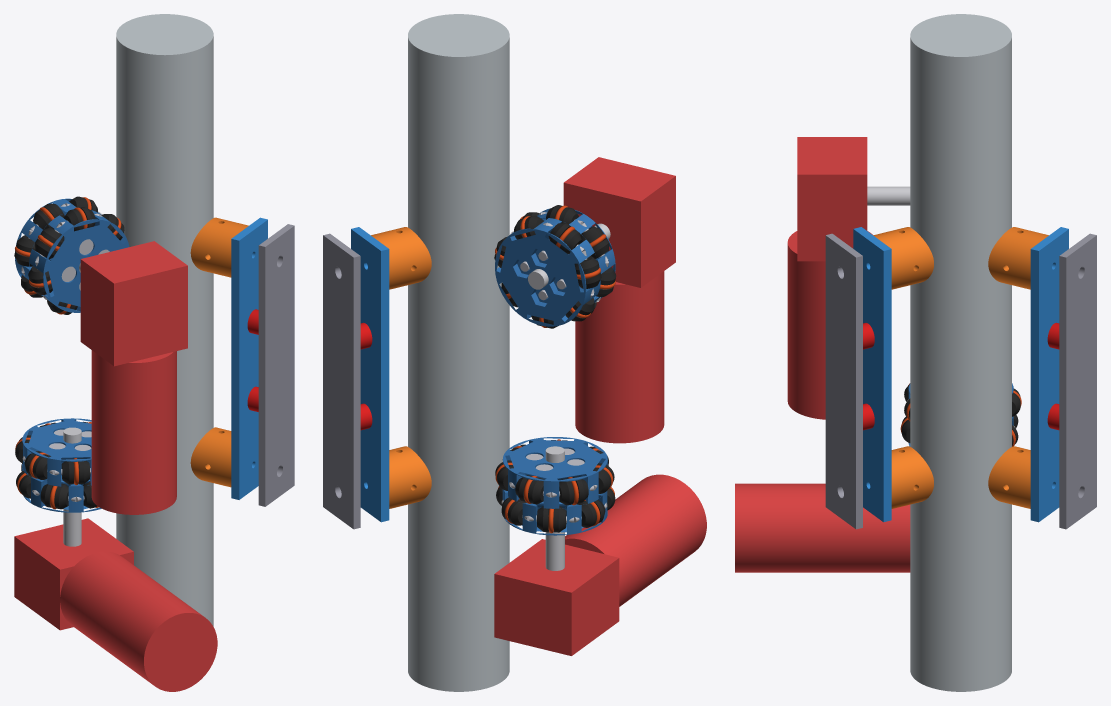
Rendered from cart-omni.glb.
3 views of the same model, side by side, from view 1: azimuth 30°, elevation 25°; view 2: azimuth 150°, elevation 25°; view 3: azimuth 270°, elevation 25° (orthographic). The views are drawn at different scales.
Parts seen in each view (by area): view 1: track_pipe, roll_motor, drive_motor, drive_gearbox, m60_cap, m60_carrier, roll_gearbox, drive_wheel_hub, m60_cups, roll_wheel_hub, drive_wheel_rollers, roll_wheel_rollers (+6 smaller); view 2: track_pipe, drive_motor, roll_gearbox, p60_cap, drive_gearbox, roll_motor, p60_carrier, drive_wheel_hub, roll_wheel_hub, p60_cups, roll_wheel_rollers, drive_wheel_rollers (+4 smaller); view 3: track_pipe, roll_motor, m60_cap, p60_cap, p60_carrier, m60_carrier, drive_gearbox, drive_motor, m60_cups, p60_cups, drive_shaft, roll_wheel_rollers (+1 smaller).
Part boxes in pixels (left/top/right/bottom): track_pipe: left=116, top=14, right=213, bottom=626; roll_motor: left=60, top=551, right=217, bottom=691; drive_motor: left=91, top=350, right=176, bottom=514; drive_gearbox: left=80, top=241, right=187, bottom=366; m60_cap: left=258, top=224, right=294, bottom=506; m60_carrier: left=231, top=217, right=267, bottom=499; roll_gearbox: left=14, top=518, right=133, bottom=630; drive_wheel_hub: left=15, top=198, right=129, bottom=312; m60_cups: left=190, top=217, right=248, bottom=487; roll_wheel_hub: left=22, top=418, right=101, bottom=512; drive_wheel_rollers: left=14, top=196, right=124, bottom=314; roll_wheel_rollers: left=15, top=421, right=96, bottom=509; track_pipe: left=408, top=14, right=509, bottom=691; drive_motor: left=575, top=271, right=664, bottom=443; roll_gearbox: left=494, top=539, right=619, bottom=655; p60_cap: left=323, top=233, right=360, bottom=529; drive_gearbox: left=563, top=157, right=675, bottom=287; roll_motor: left=565, top=474, right=706, bottom=606; p60_carrier: left=351, top=227, right=389, bottom=522; drive_wheel_hub: left=495, top=208, right=615, bottom=326; roll_wheel_hub: left=502, top=437, right=607, bottom=535; p60_cups: left=371, top=227, right=431, bottom=508; roll_wheel_rollers: left=495, top=440, right=615, bottom=532; drive_wheel_rollers: left=494, top=205, right=616, bottom=328; track_pipe: left=910, top=14, right=1011, bottom=691; roll_motor: left=735, top=483, right=910, bottom=572; m60_cap: left=825, top=233, right=862, bottom=529; p60_cap: left=1059, top=233, right=1096, bottom=529; p60_carrier: left=1030, top=227, right=1068, bottom=522; m60_carrier: left=853, top=227, right=891, bottom=522; drive_gearbox: left=797, top=137, right=867, bottom=261; drive_motor: left=787, top=231, right=872, bottom=419; m60_cups: left=873, top=227, right=933, bottom=508; p60_cups: left=988, top=227, right=1048, bottom=508; drive_shaft: left=867, top=186, right=910, bottom=205; roll_wheel_rollers: left=901, top=385, right=1020, bottom=445.
Bounding box in the file's own units: 83.92 × 220 × 114.
